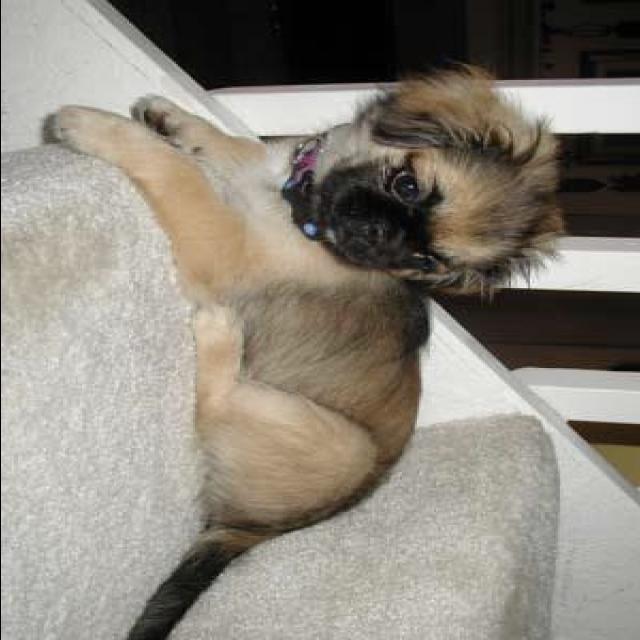pekinese: (52, 64, 570, 638)
